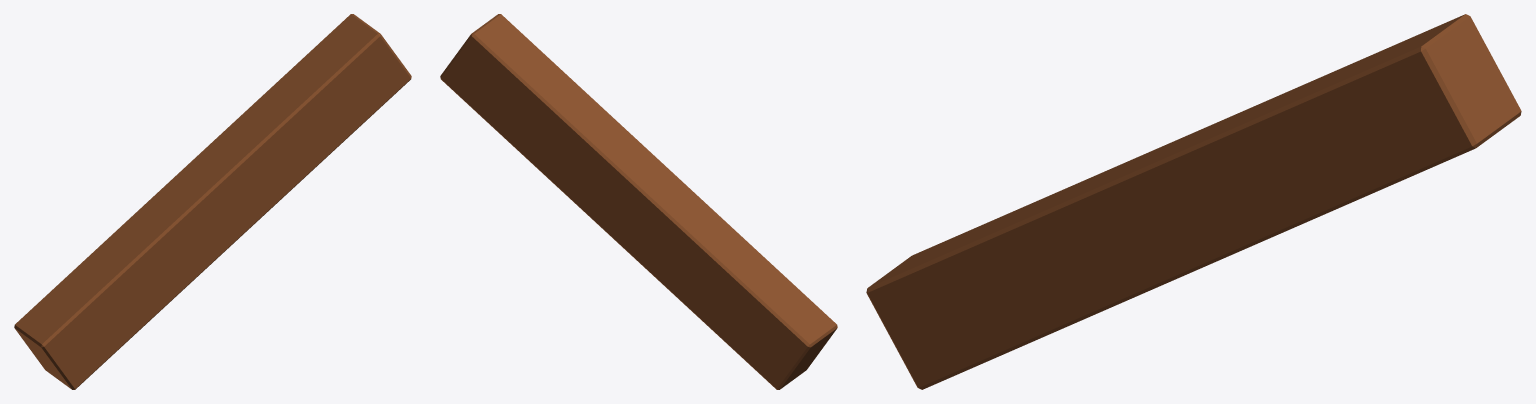
Rendered from diagonal_brace.glb.
3 views of the same model, side by side, from view 1: azimuth 30°, elevation 25°; view 2: azimuth 150°, elevation 25°; view 3: azimuth 330°, elevation 25° (orthographic). The views are drawn at different scales.
Visible parts, largest first — view 1: diagonal_brace__body__oak; view 2: diagonal_brace__body__oak; view 3: diagonal_brace__body__oak.
Part boxes in pixels (box(x1,y1,x2,y2)): diagonal_brace__body__oak: box(14, 14, 411, 389); diagonal_brace__body__oak: box(440, 14, 837, 389); diagonal_brace__body__oak: box(866, 14, 1521, 389).
Size of the model in its own units: 1.09 by 0.7944 by 0.15.
